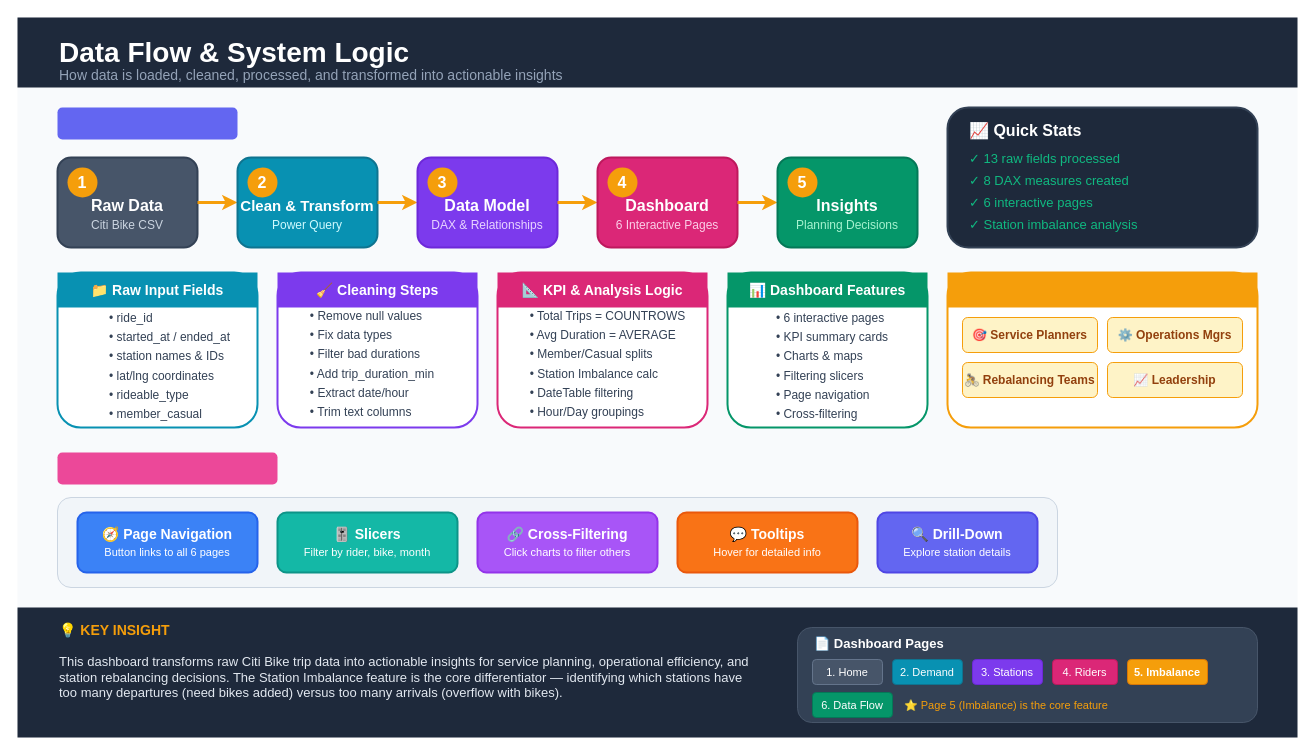
This 1314x754 diagram has some shape labels left out. The centre of each missing label's shape, as x and y in pixels:
"👥 Target Users" goes at point (1102, 289).
"📊 DATA PIPELINE" goes at point (147, 123).
"🖱️ USER INTERACTION" goes at point (167, 468).
